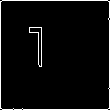L_S: (47, 30, 63, 80)
